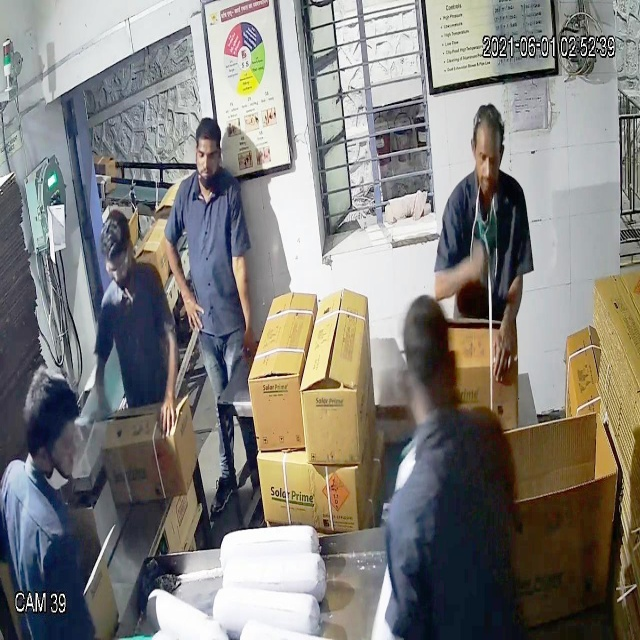Gafas: (103, 243, 135, 287)
Sin_gafas: (187, 138, 228, 172), (470, 140, 506, 172)
